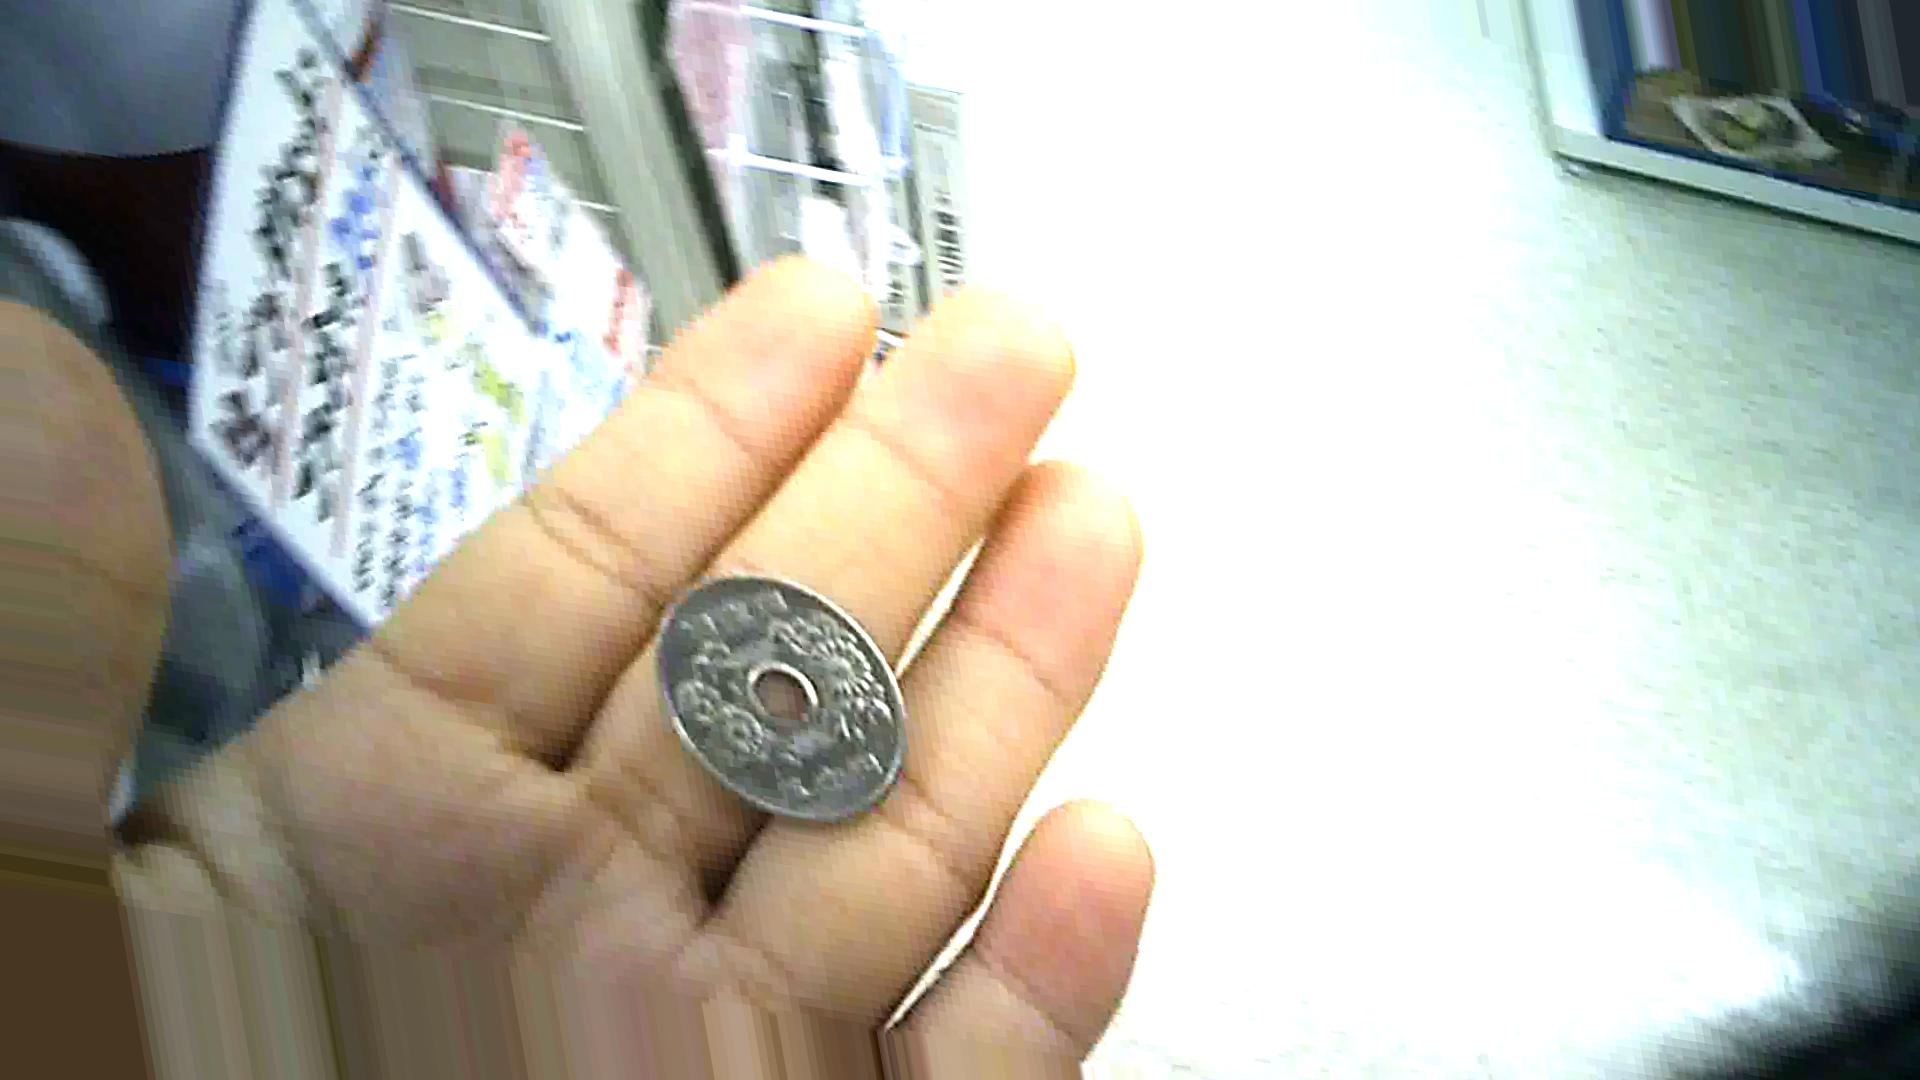50 Yen: (647, 578, 930, 833)
